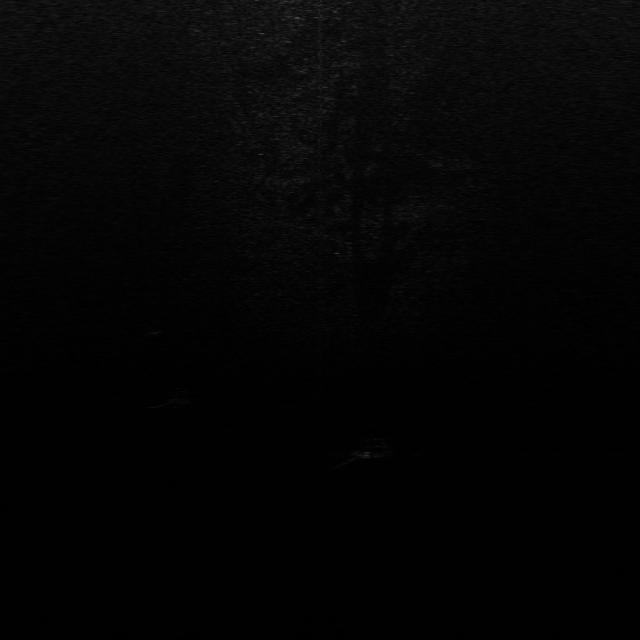ball: (164, 385, 197, 407)
circle cage: (146, 320, 172, 337)
tyre: (352, 437, 393, 459)
